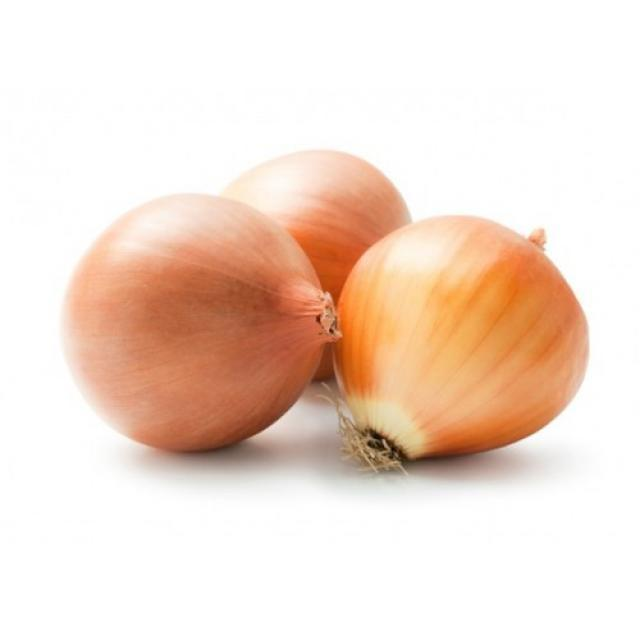Onion: (59, 193, 346, 452), (308, 214, 591, 476), (223, 149, 418, 386)
